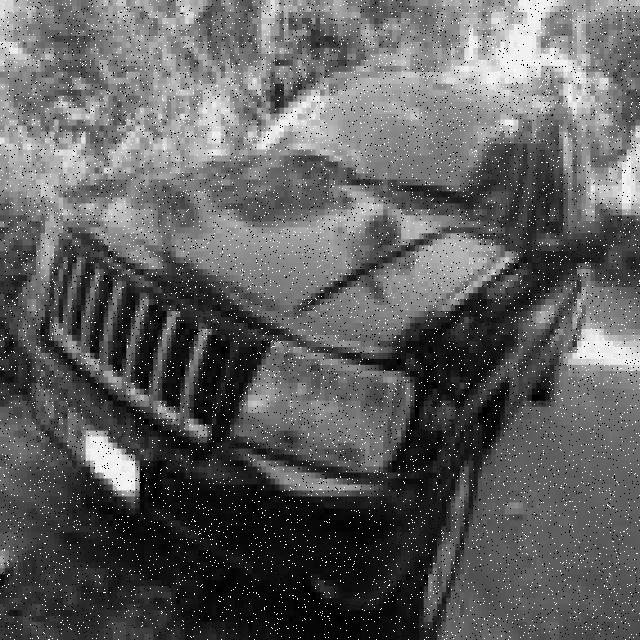car: (27, 39, 602, 608)
